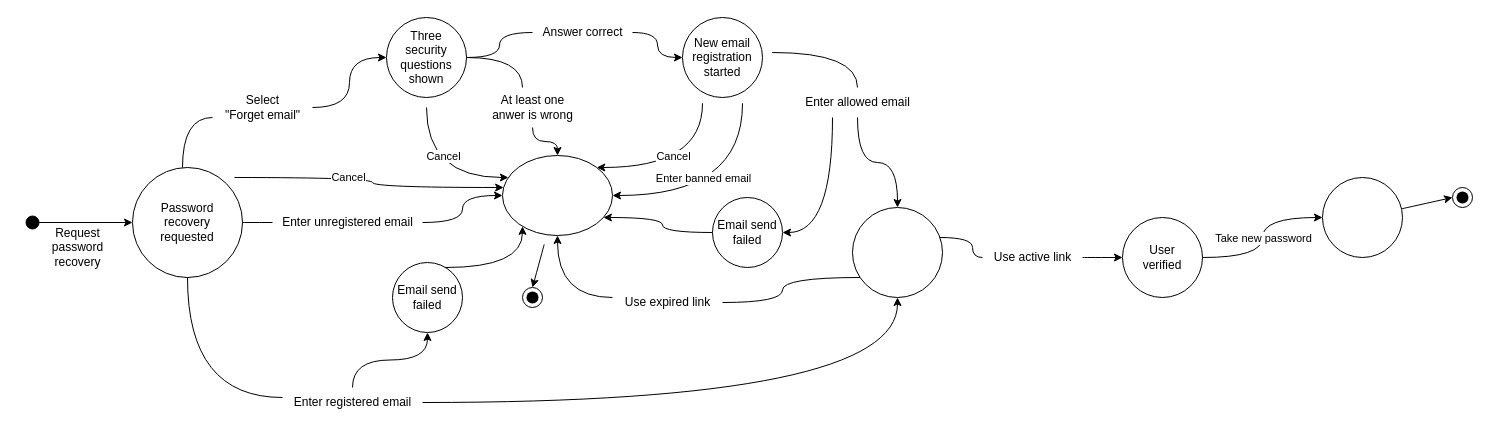
The diagram is 1502 pixels wide and 435 high, and some of its shapes have lost their labels. Here are the shapes that lost their labels. From the top down, the box of each, then its label:
(502, 154, 612, 236): Password recovery rejected
(1322, 176, 1402, 258): Password changed
(852, 206, 942, 298): Email with recovery link was sent
